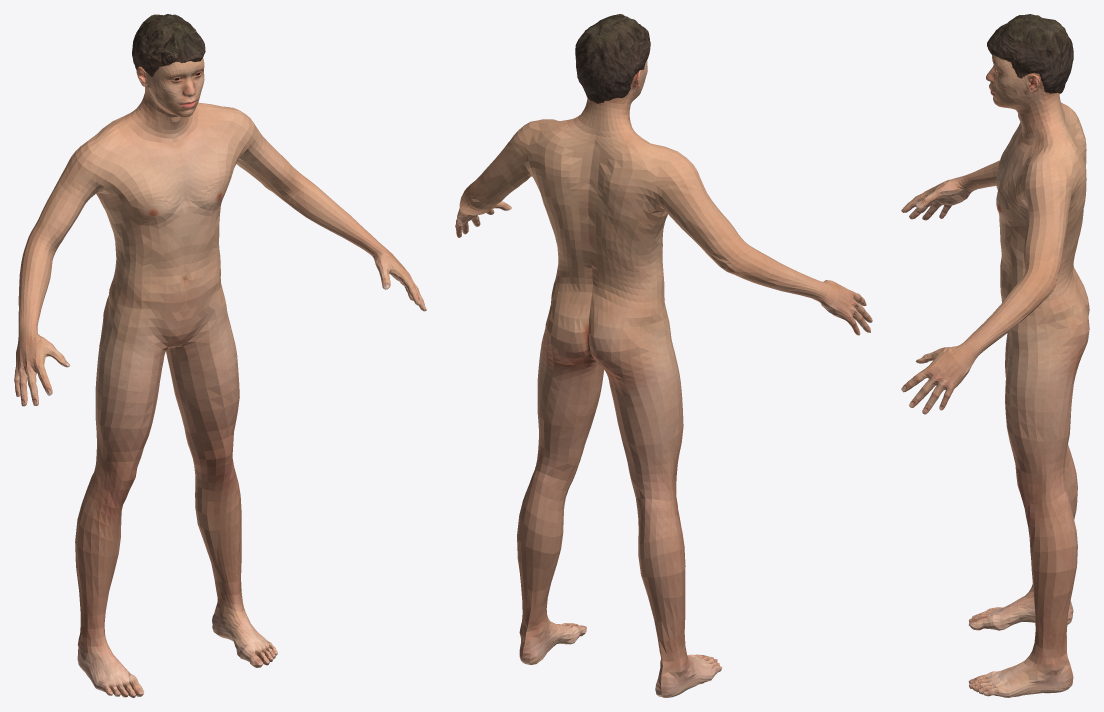
The model's file is hombre.obj.
3 views of the same model, side by side, from view 1: azimuth 30°, elevation 25°; view 2: azimuth 150°, elevation 25°; view 3: azimuth 270°, elevation 25° (orthographic).
Visible parts, largest first — view 1: base.obj, short02.obj; view 2: base.obj, short02.obj; view 3: base.obj, short02.obj.
Part boxes in pixels (x1,y1,x2,y2): base.obj: (14, 58, 426, 697); short02.obj: (132, 14, 205, 76); base.obj: (455, 60, 872, 697); short02.obj: (575, 14, 650, 103); base.obj: (901, 54, 1089, 697); short02.obj: (987, 14, 1073, 93).
Bounding box in the file's own units: 1.23 × 1.87 × 0.4999.
3 materials, 3 textured.
